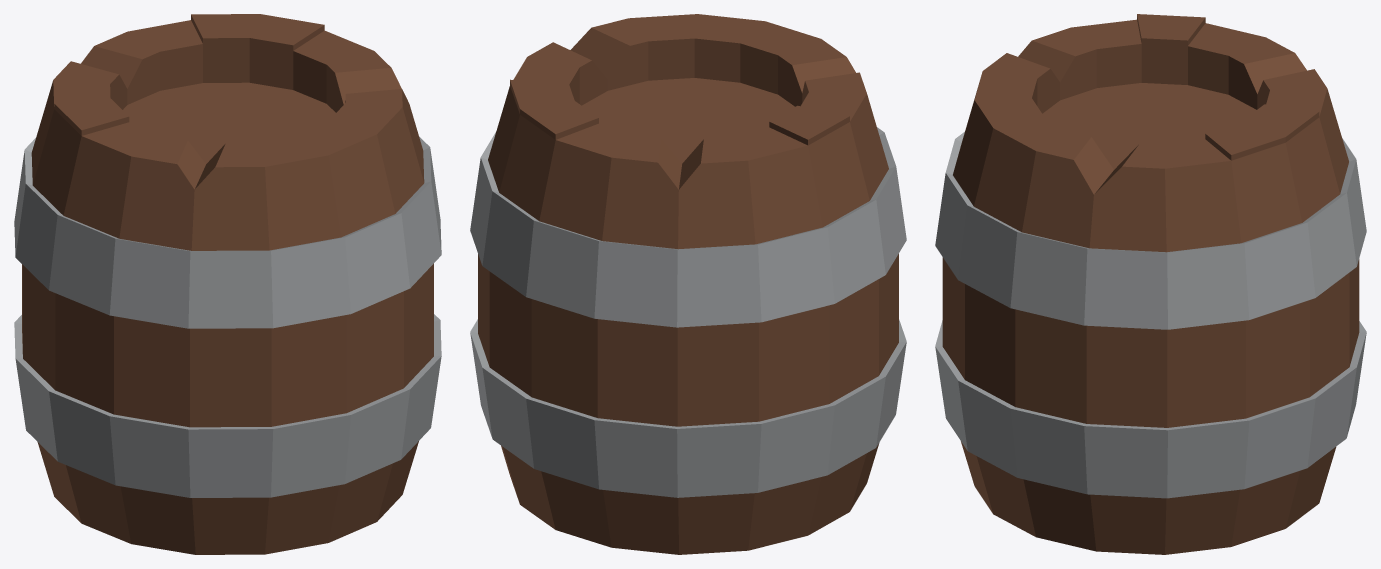
File: env-barrel.fbx
3 renders of one model, left to right at view 1: azimuth 30°, elevation 25°; view 2: azimuth 150°, elevation 25°; view 3: azimuth 270°, elevation 25°, orthographic.
Parts seen in each view (by area): view 1: Cylinder.040; view 2: Cylinder.040; view 3: Cylinder.040.
Boxes of the visible parts, bbox=[...] form: Cylinder.040: bbox=[14, 14, 441, 554]; Cylinder.040: bbox=[470, 14, 906, 554]; Cylinder.040: bbox=[935, 14, 1366, 554].
Size of the model in its own units: 84.92 by 85.07 by 84.92.
